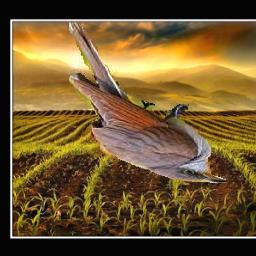Cuckoo: (69, 21, 229, 183)
